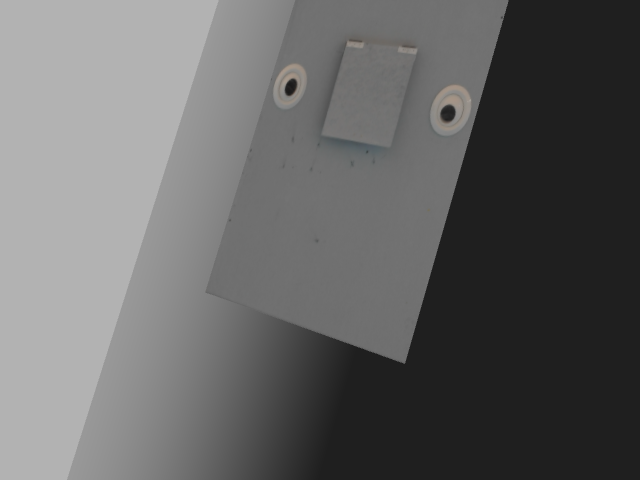facade: (268, 37, 473, 150)
